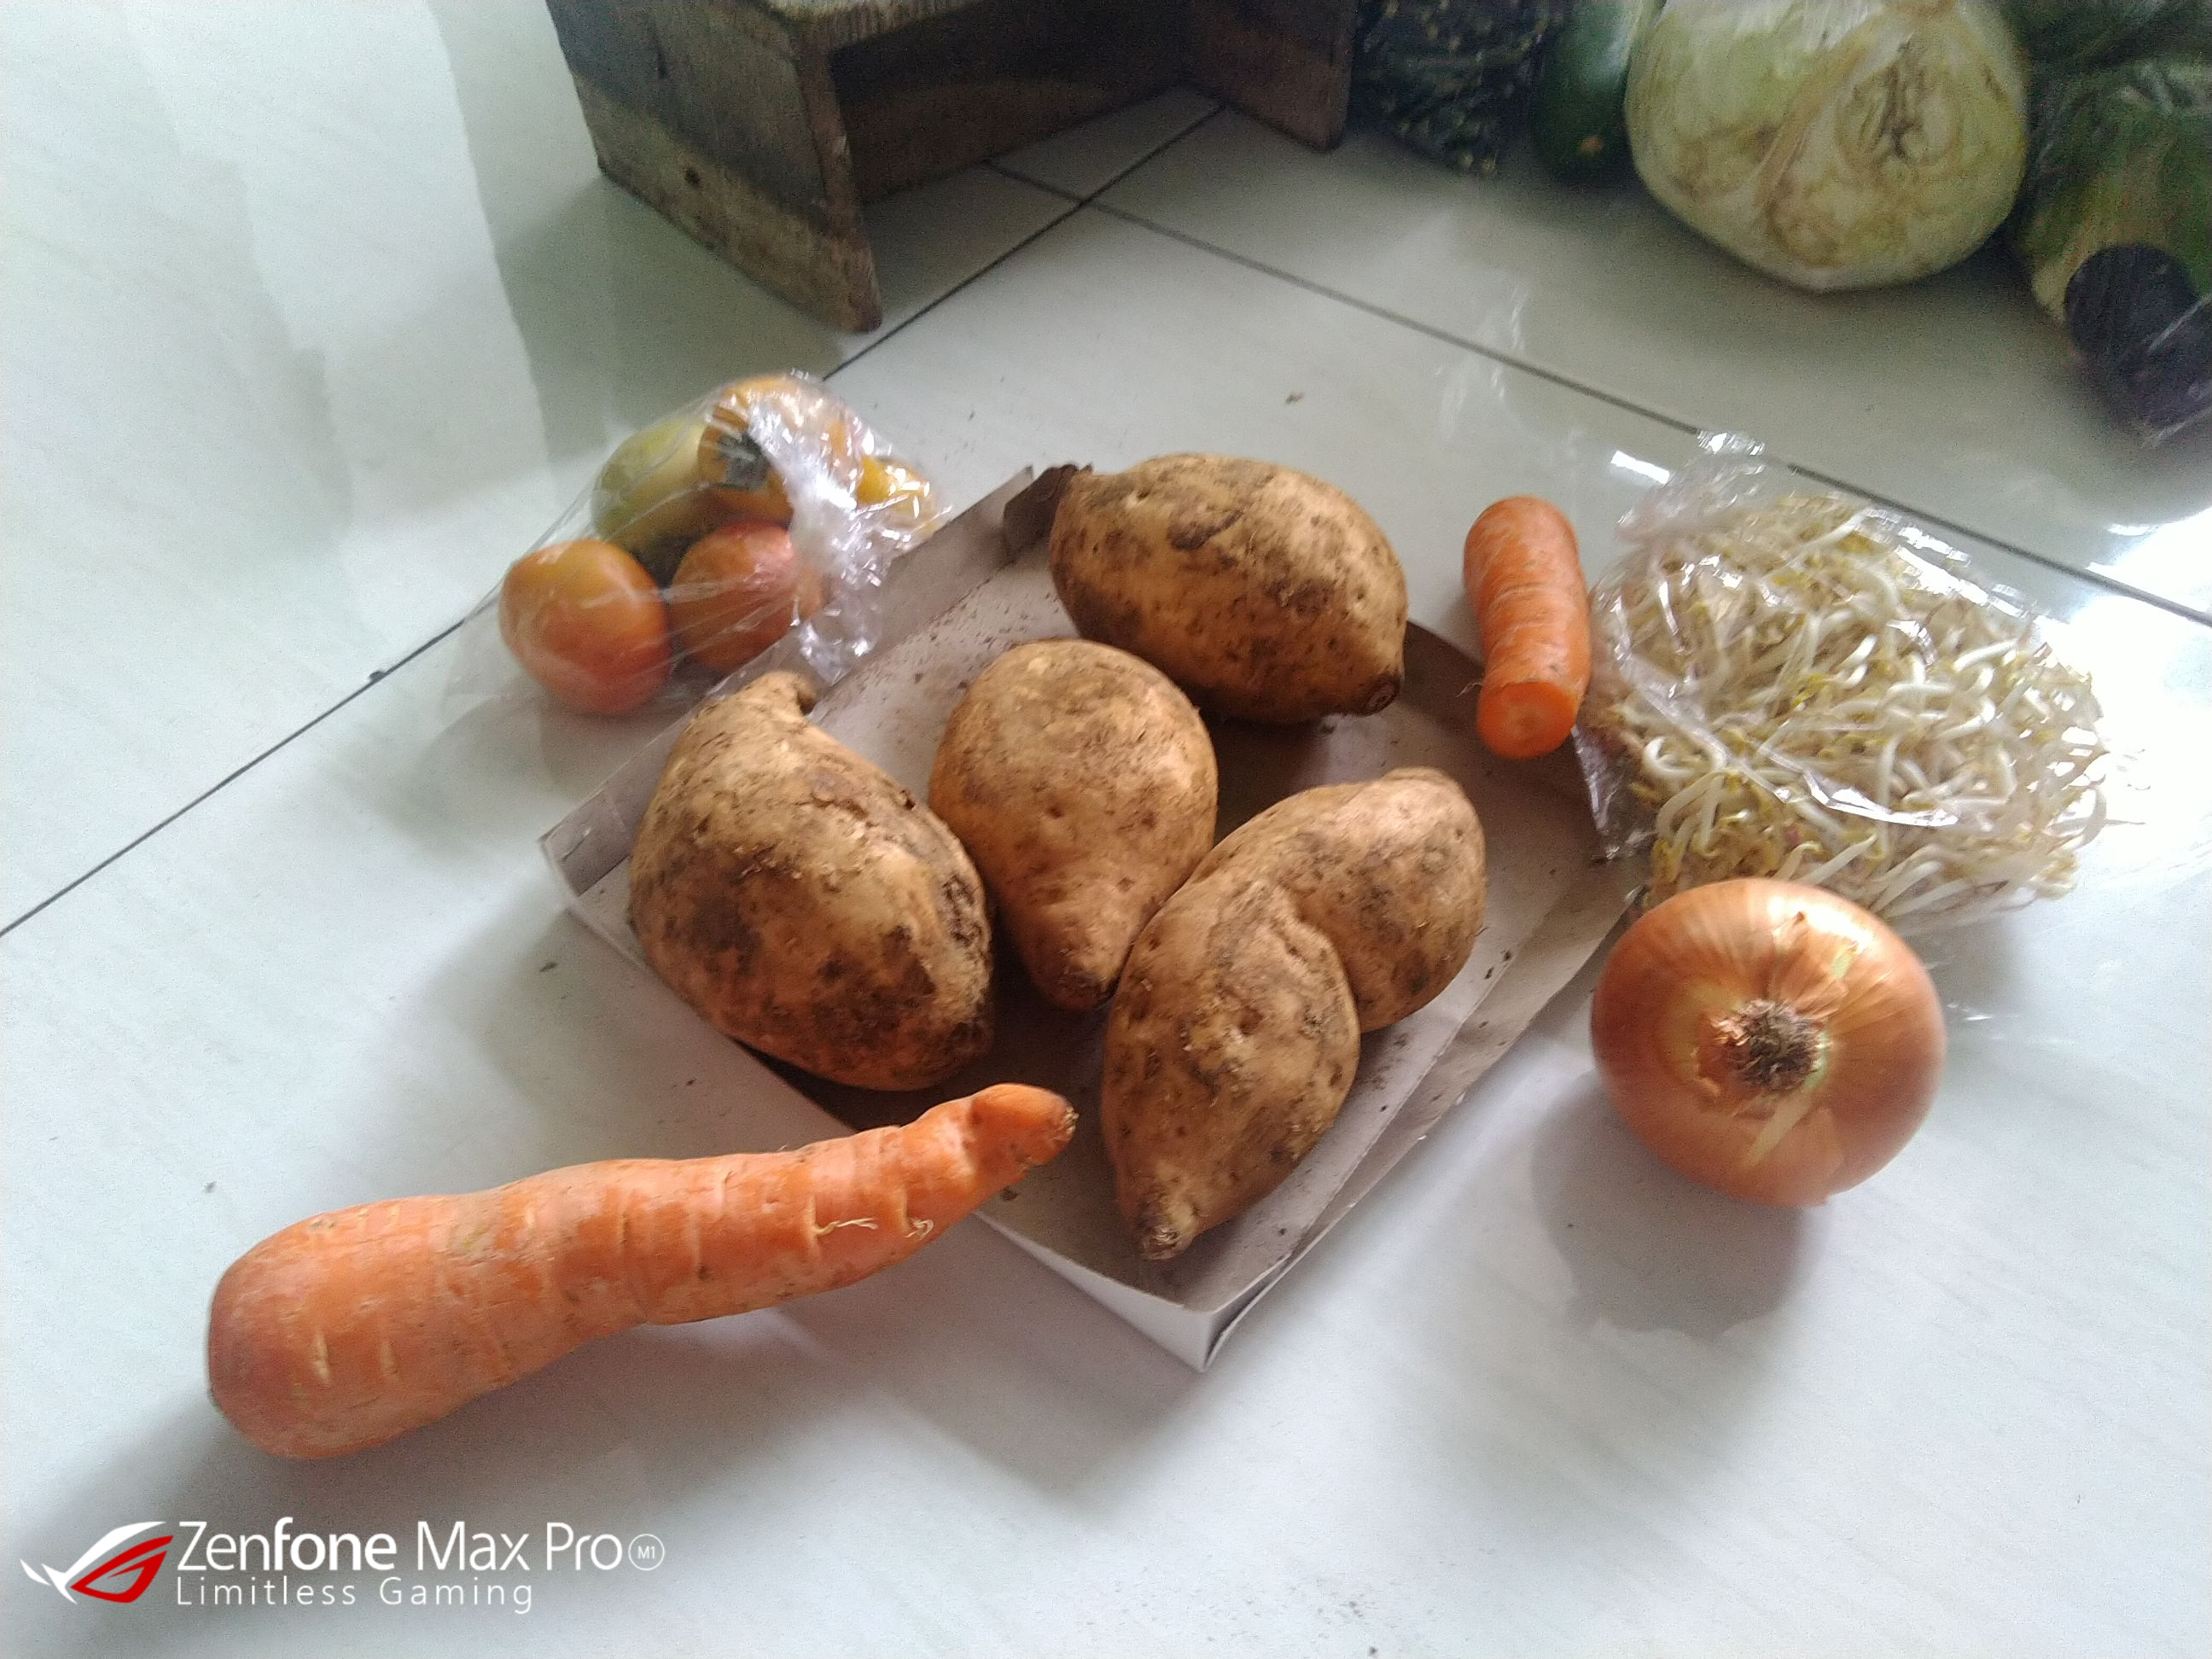ubi kuning: (1097, 755, 1515, 1260), (634, 671, 1001, 1093), (927, 634, 1223, 1025), (1047, 450, 1409, 732)
